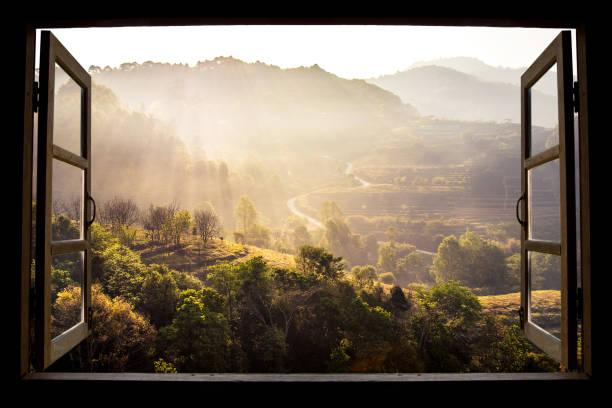Non_Gorille: (45, 28, 604, 379)
